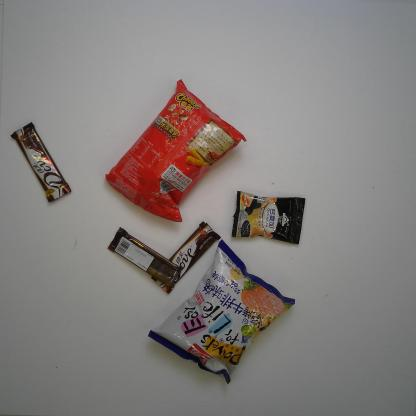Chocolate: (7, 120, 74, 204), (150, 221, 222, 296), (106, 227, 182, 289)
Instant Drink: (231, 188, 308, 247)
Puffed Food: (146, 234, 298, 386), (102, 76, 250, 223)
